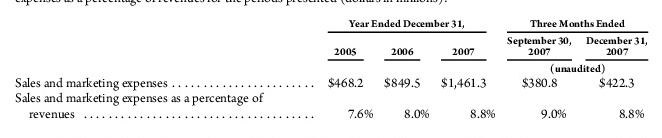table: (0, 0, 662, 138)
